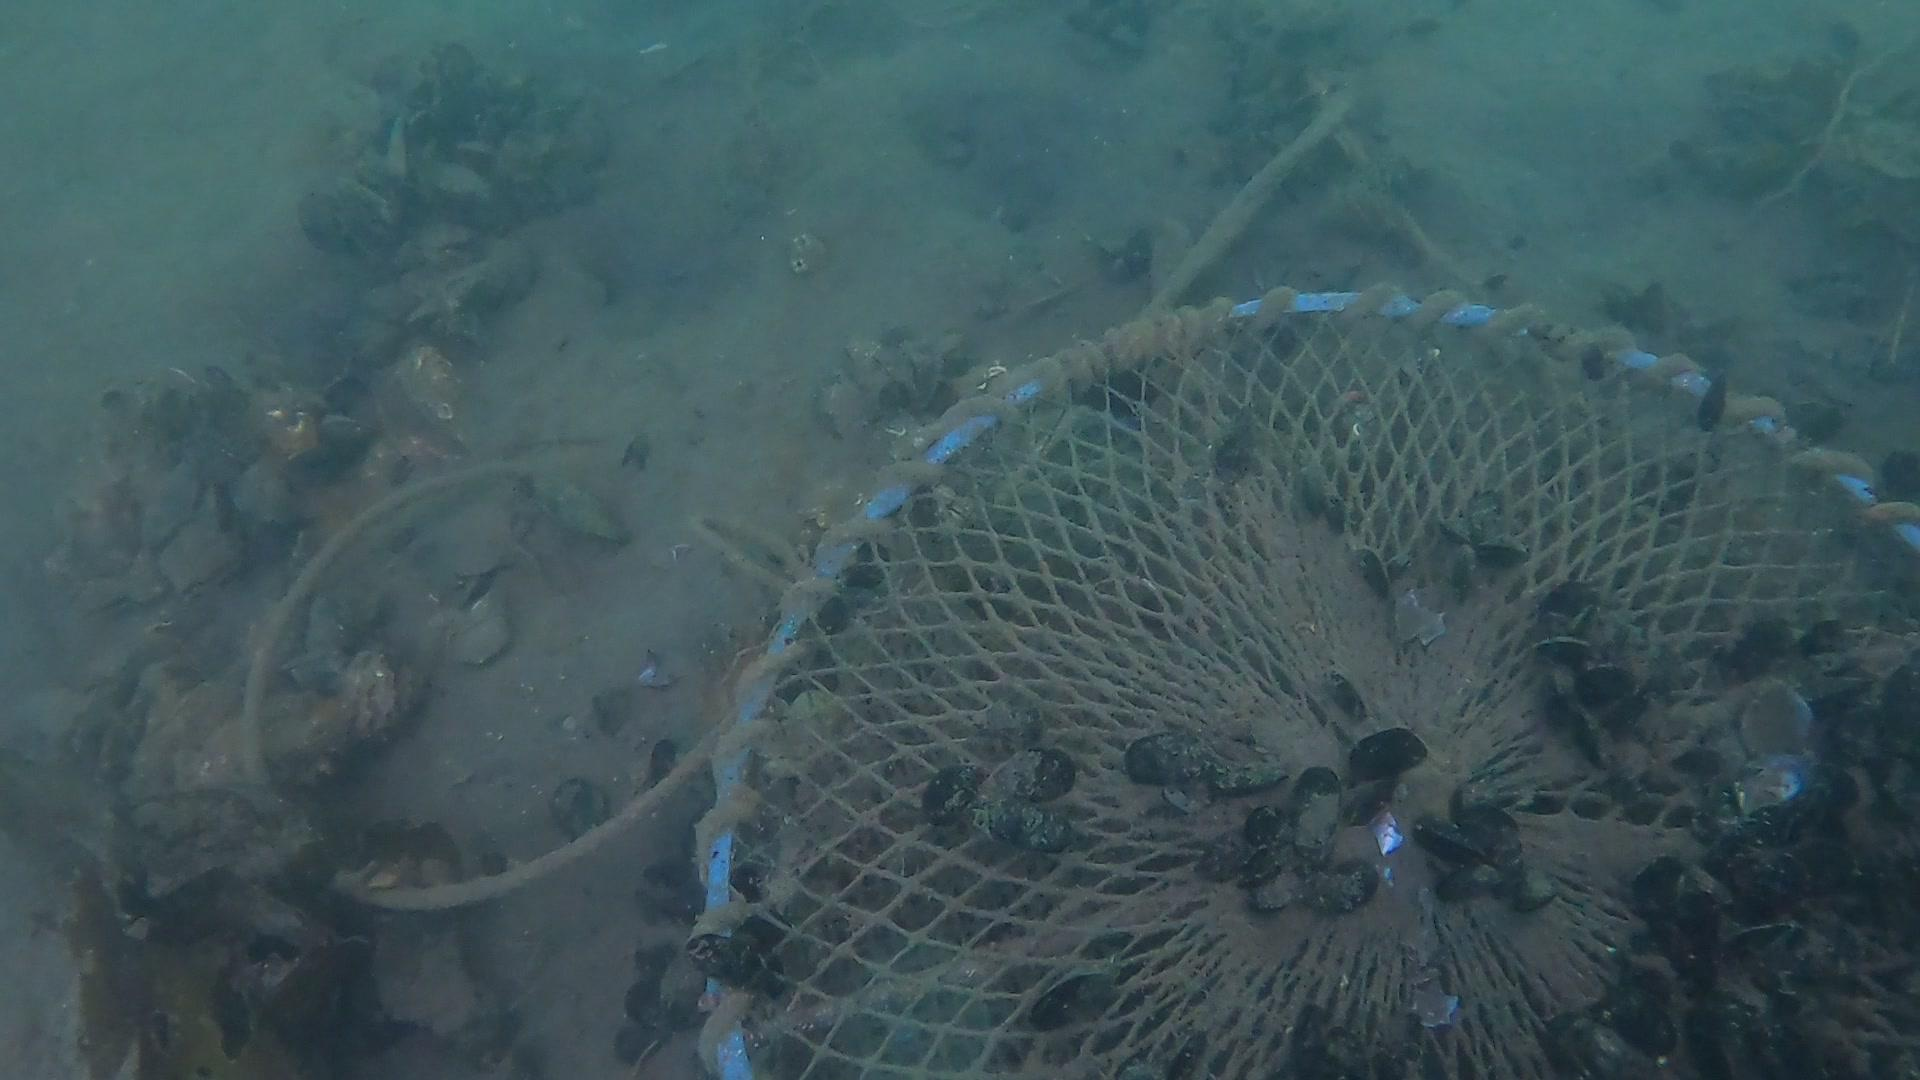bundle of ropes: (224, 444, 728, 913)
circular fish trap: (683, 278, 1920, 1080)
